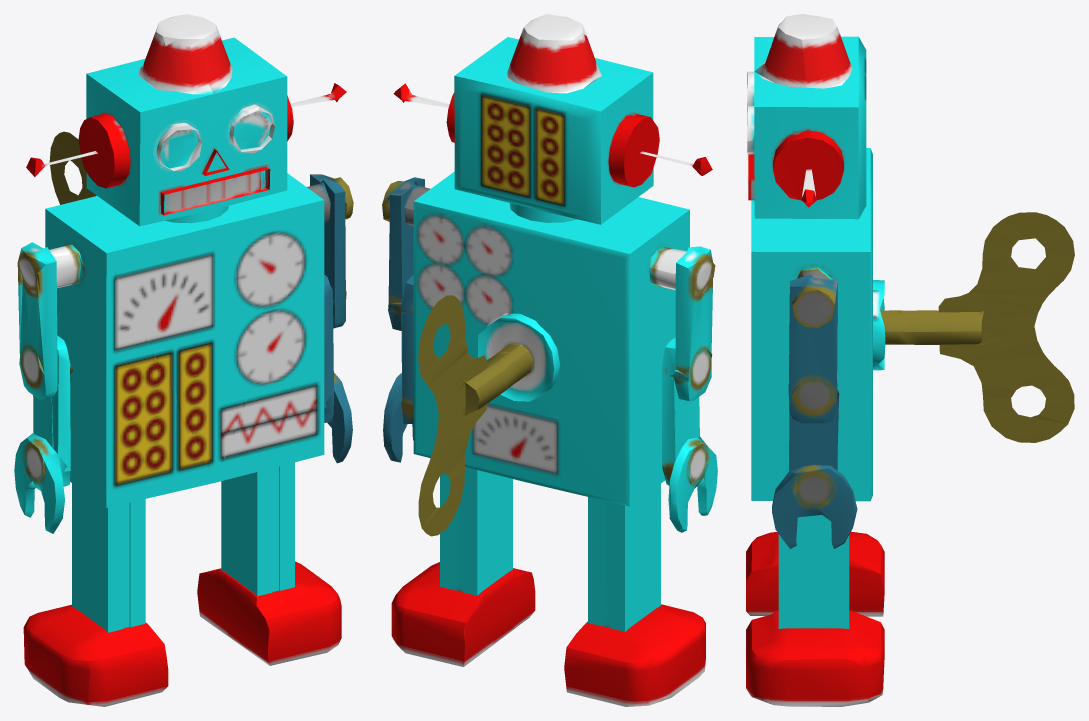
File: toy_robot3.glb
The picture shows the model from 3 angles, left to right: view 1: azimuth 30°, elevation 25°; view 2: azimuth 150°, elevation 25°; view 3: azimuth 270°, elevation 25°; orthographic projection. The views are drawn at different scales.
Visible parts, largest first — view 1: mesh; view 2: mesh; view 3: mesh.
Part boxes in pixels (x1,y1,x2,y2): mesh: (14, 14, 353, 706); mesh: (382, 14, 717, 706); mesh: (746, 14, 1074, 706).
Bounding box in the file's own units: 0.1047 × 0.2 × 0.0966.
1 material, 1 textured.
